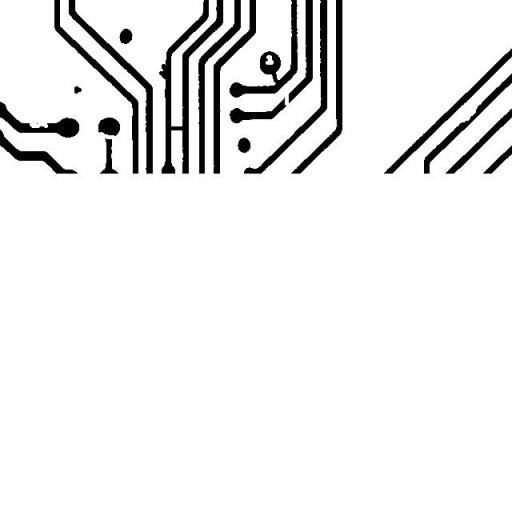copper: (66, 78, 89, 101)
mousebite: (454, 94, 486, 130), (22, 114, 55, 135)
open: (276, 84, 298, 114), (92, 124, 122, 146)
pin-hole: (258, 47, 280, 72)
short: (260, 59, 288, 92), (159, 118, 194, 138)
spur: (151, 56, 177, 86)
